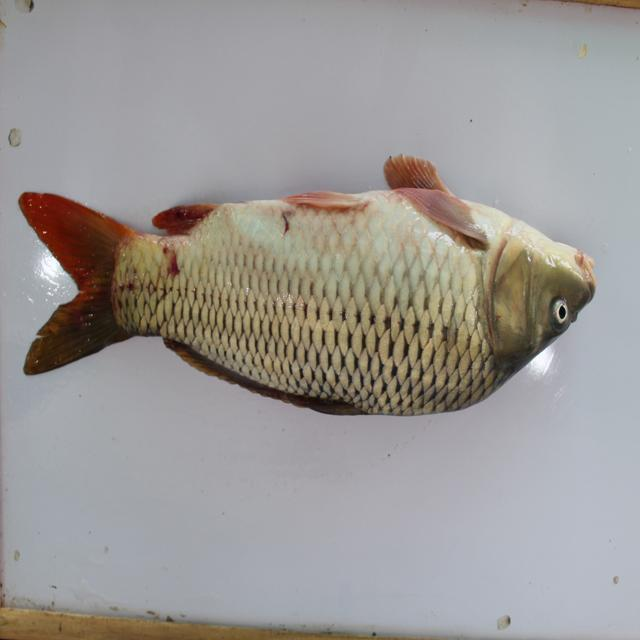CommonCarp: (11, 152, 600, 440)
